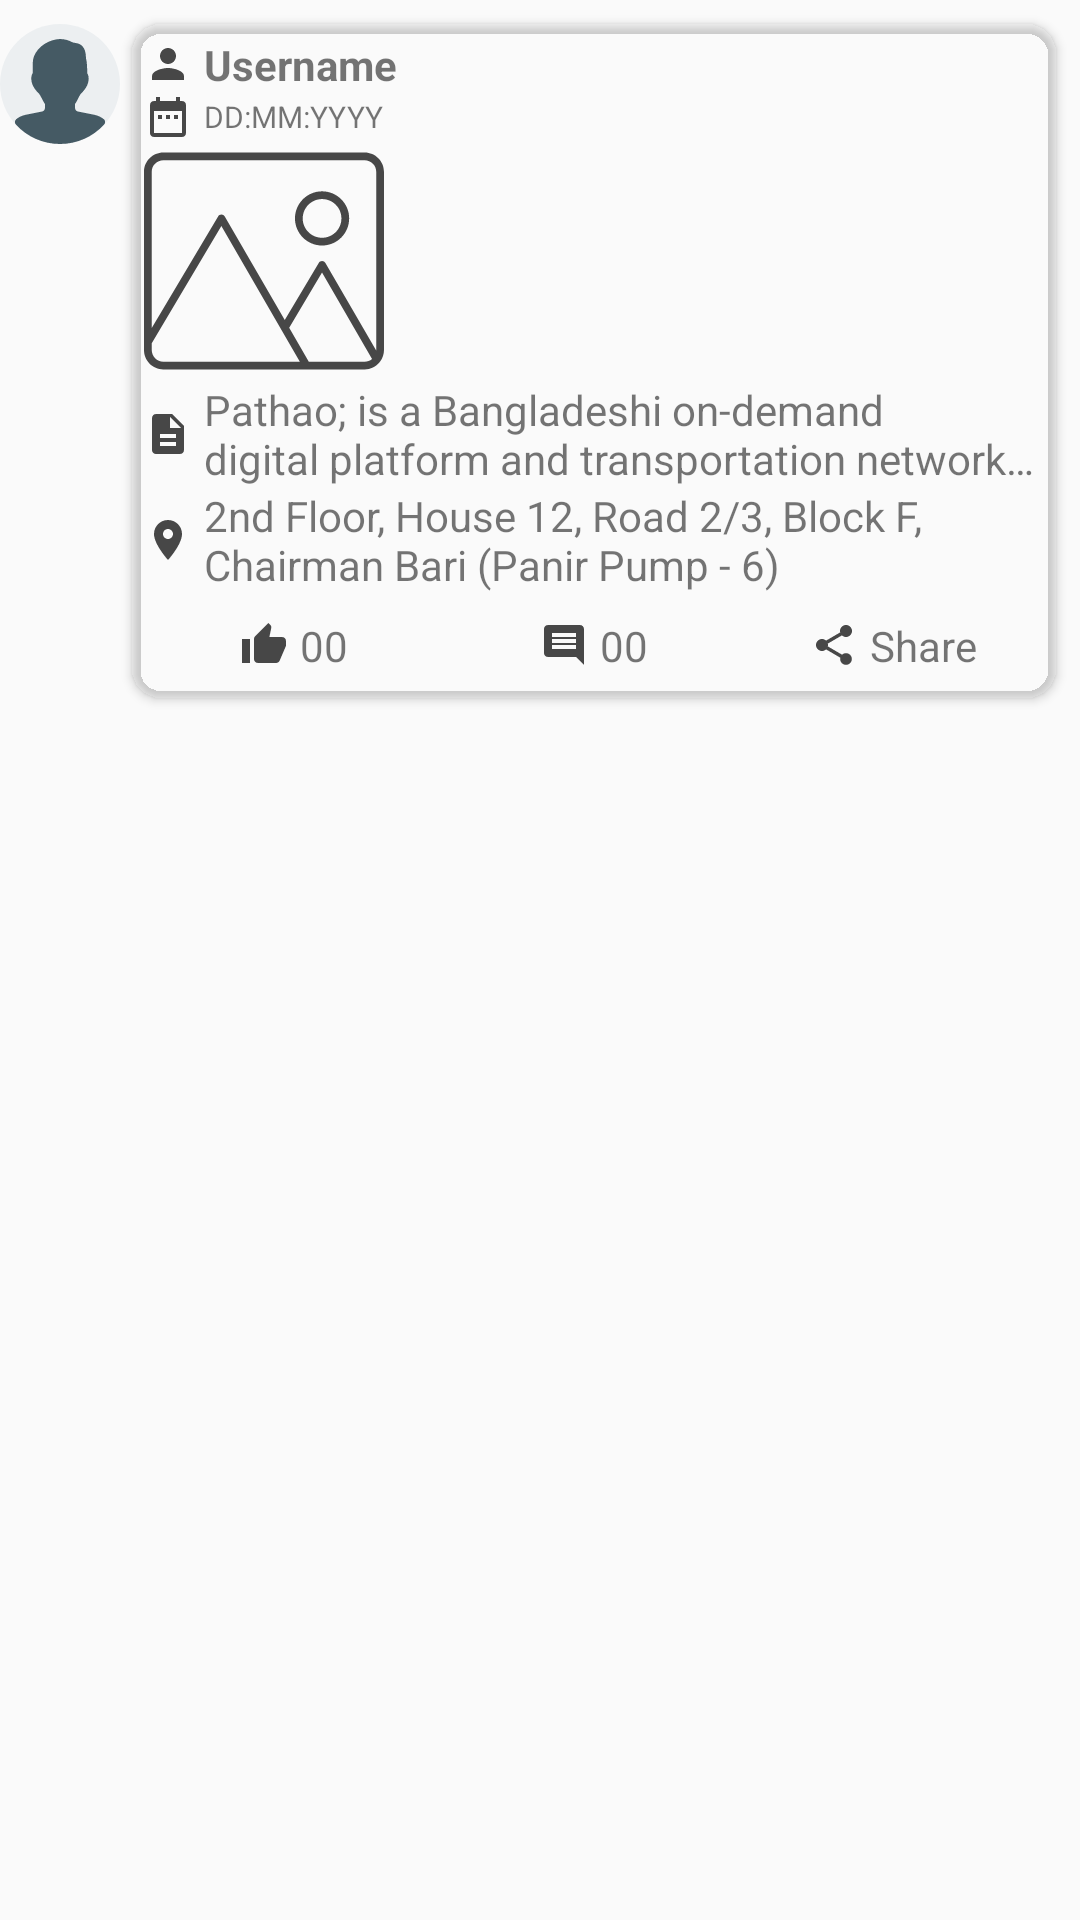

Locate icon controls on the screen. Image size 1080x1920, boxes as (x1, y1, x2, y2).
comment: (544, 625, 584, 665)
thumb up like: (242, 623, 286, 663)
